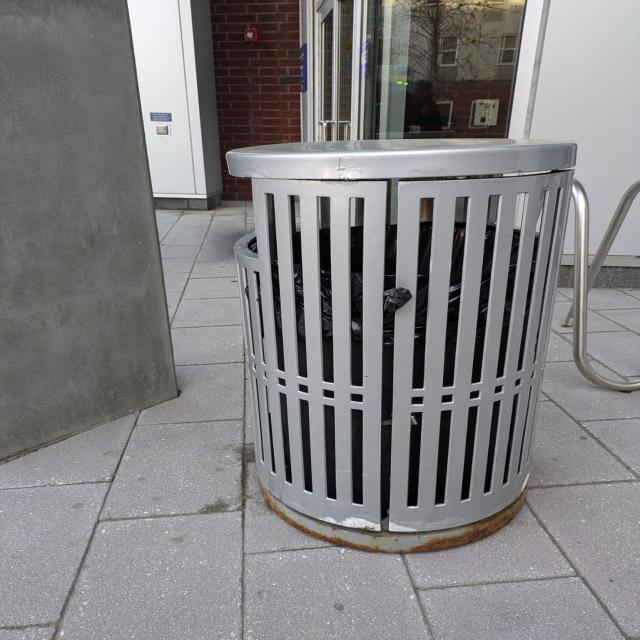Crevice Corrosion: (257, 479, 536, 558)
